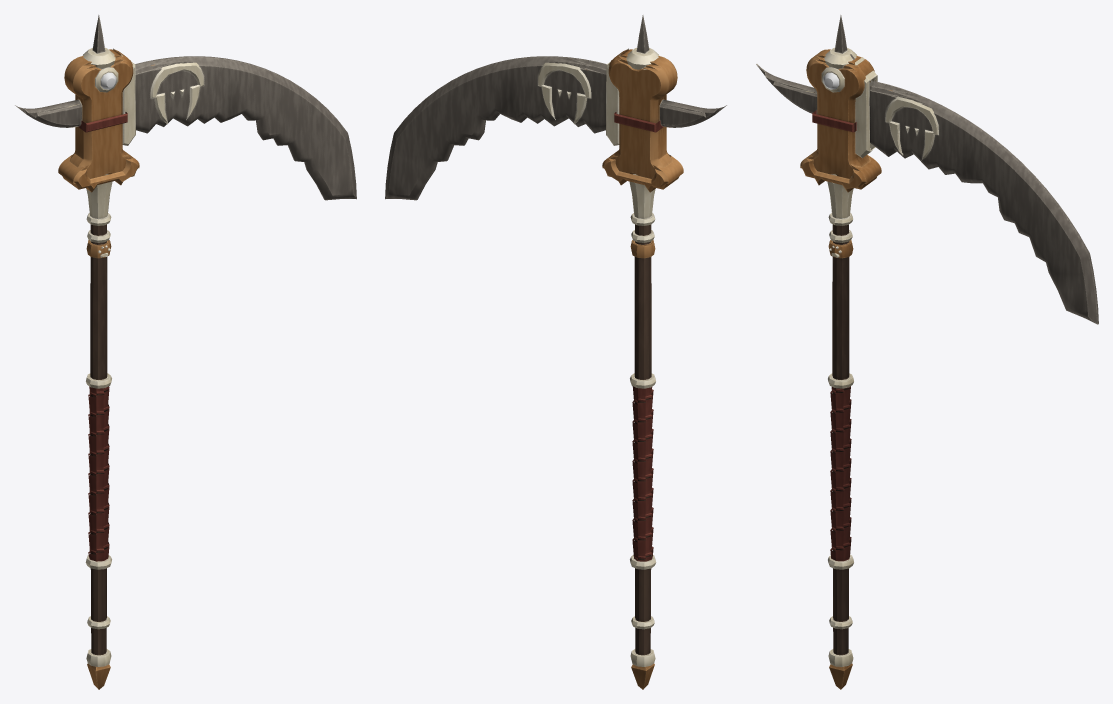
Rendered from Gnawmoon.fbx.
The picture shows the model from 3 angles, left to right: view 1: azimuth 30°, elevation 25°; view 2: azimuth 150°, elevation 25°; view 3: azimuth 330°, elevation 25°; orthographic projection.
Visible parts, largest first — view 1: Gnawmoon_Body; view 2: Gnawmoon_Body; view 3: Gnawmoon_Body.
Boxes of the visible parts, bbox=[...] form: Gnawmoon_Body: bbox=[15, 15, 356, 689]; Gnawmoon_Body: bbox=[385, 15, 726, 689]; Gnawmoon_Body: bbox=[756, 15, 1098, 689].
Bounding box in the file's own units: 3.54 × 6.68 × 0.39.
